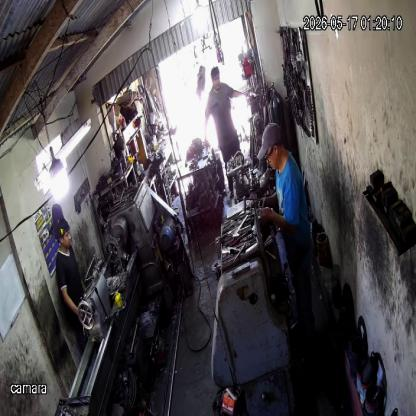lentes: (263, 144, 275, 165)
